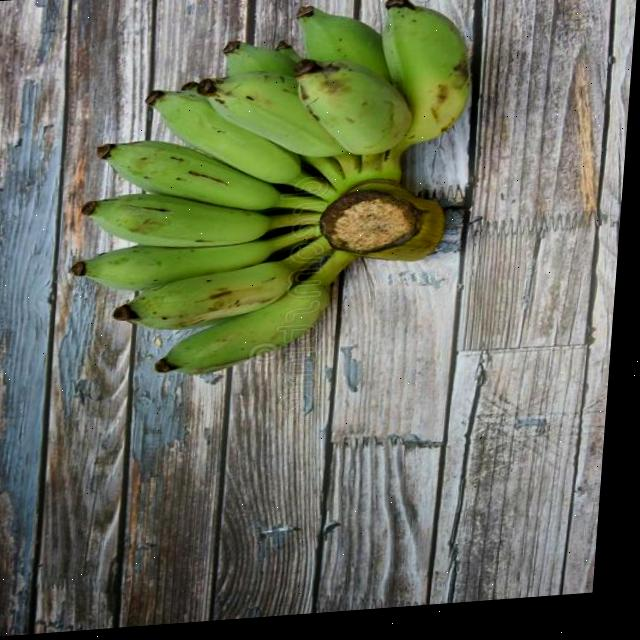banana: (53, 0, 486, 388)
